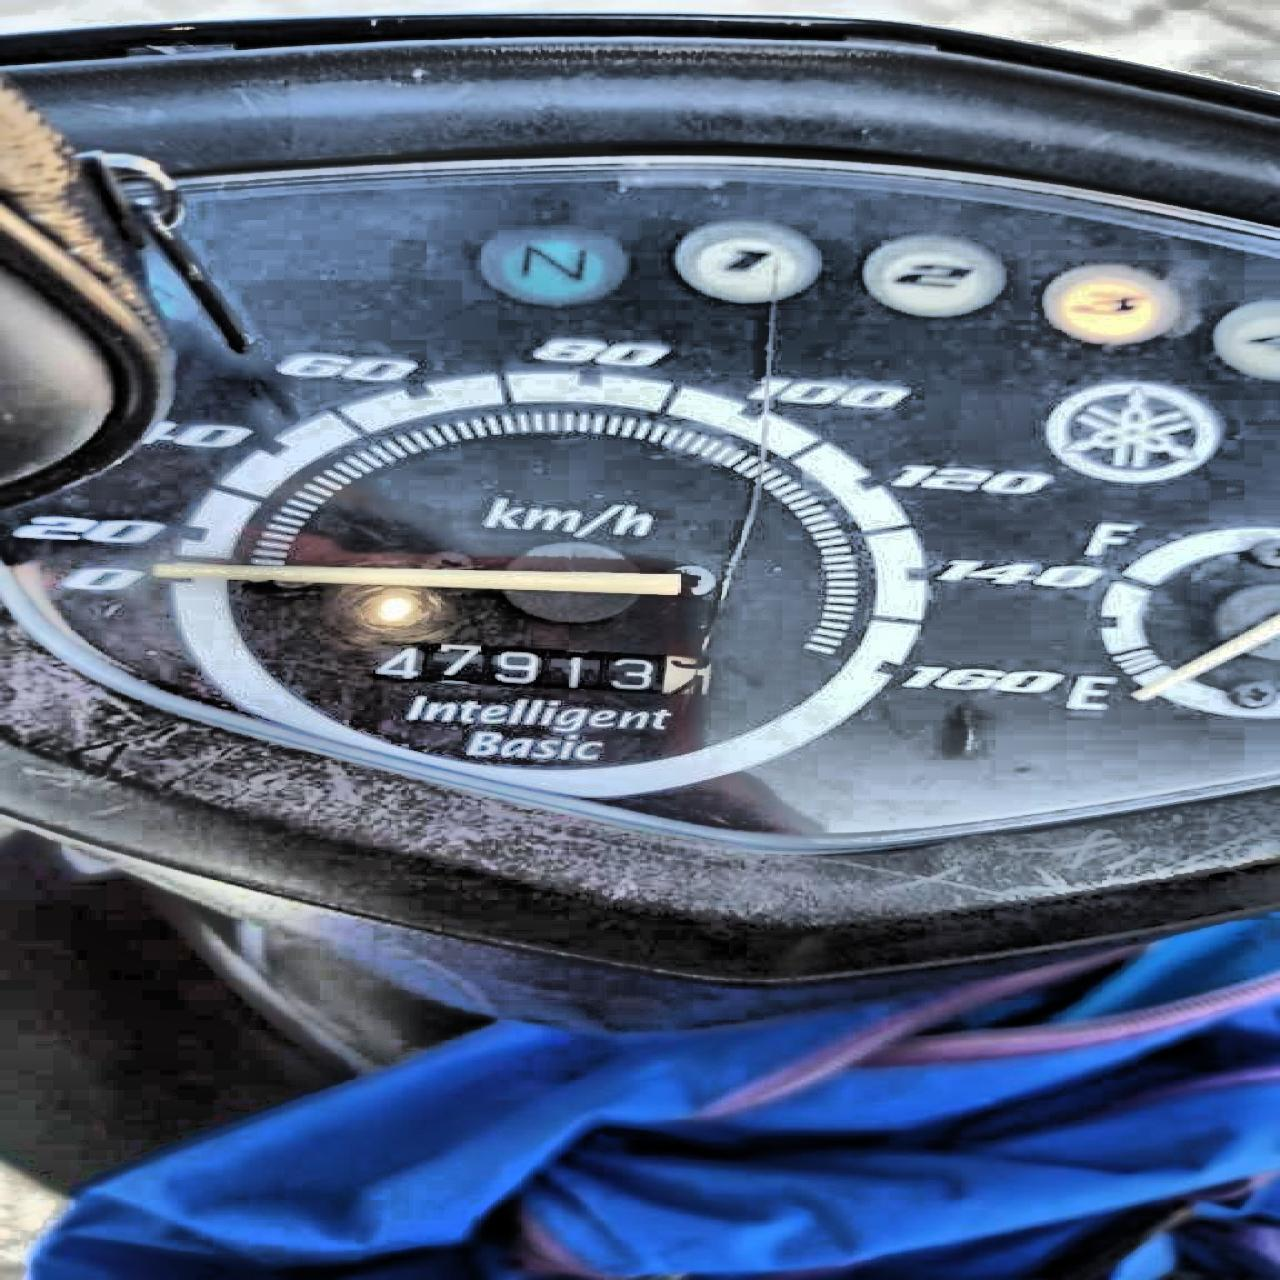1: (565, 655, 583, 687)
3: (607, 656, 652, 690)
4: (372, 646, 417, 679), (665, 674, 702, 701)
7: (436, 642, 481, 675)
9: (489, 649, 538, 682)
odometer: (367, 640, 713, 699)
